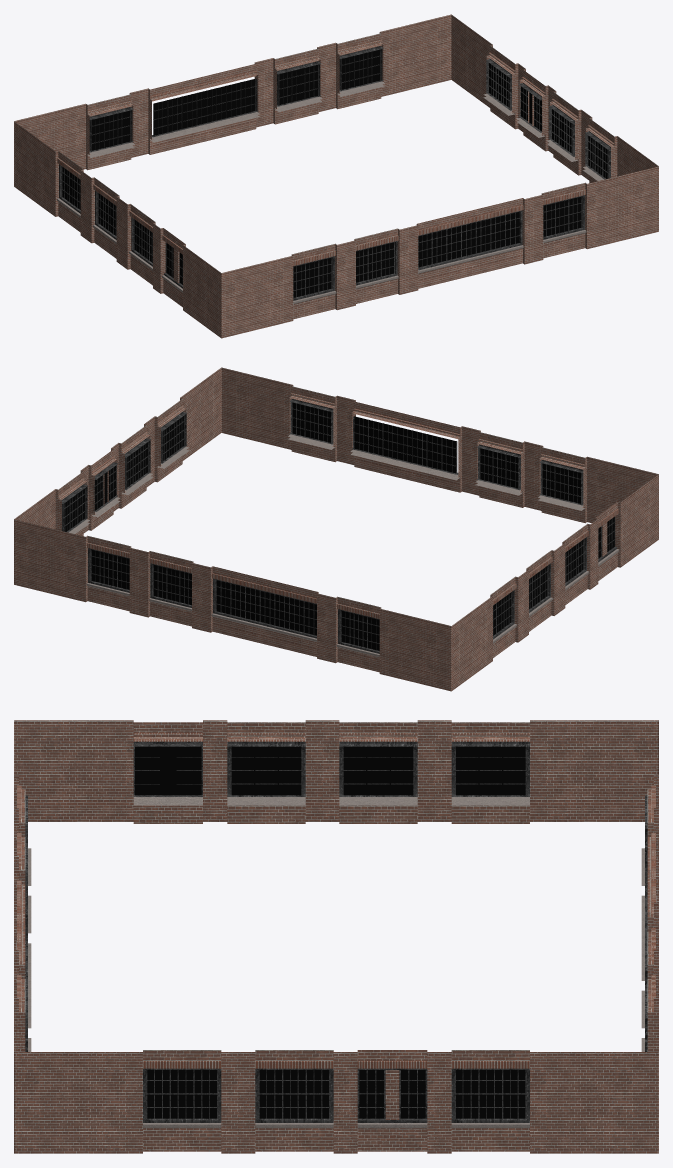
The model's file is BuildingA_Mid_Shell_VarA.fbx.
3 renders of one model, top to bottom at view 1: azimuth 30°, elevation 25°; view 2: azimuth 150°, elevation 25°; view 3: azimuth 270°, elevation 25°, orthographic. The views are drawn at different scales.
Parts seen in each view (by area): view 1: BuildingA_Mid_Shell_VarA; view 2: BuildingA_Mid_Shell_VarA; view 3: BuildingA_Mid_Shell_VarA.
Part boxes in pixels (left/top/right/bottom): BuildingA_Mid_Shell_VarA: left=14, top=14, right=658, bottom=338; BuildingA_Mid_Shell_VarA: left=14, top=367, right=658, bottom=691; BuildingA_Mid_Shell_VarA: left=14, top=720, right=658, bottom=1153.
Bounding box in the file's own units: 2800 × 400 × 2300.
